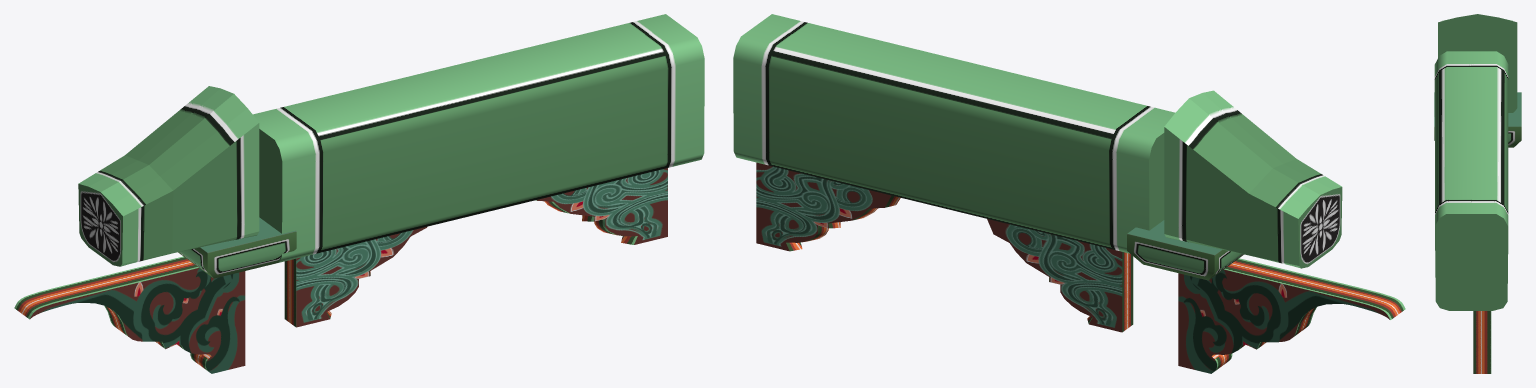
File: SM_R_Beam_13.fbx
3 renders of one model, left to right at view 1: azimuth 30°, elevation 25°; view 2: azimuth 150°, elevation 25°; view 3: azimuth 270°, elevation 25°, orthographic. The views are drawn at different scales.
Parts seen in each view (by area): view 1: SM_R_Beam_13; view 2: SM_R_Beam_13; view 3: SM_R_Beam_13.
Part boxes in pixels (x1,y1,x2,y2): SM_R_Beam_13: [14, 14, 704, 373]; SM_R_Beam_13: [733, 14, 1405, 373]; SM_R_Beam_13: [1434, 14, 1521, 373].
Bounding box in the file's own units: 224 × 32.84 × 87.18.
Materials: 3 (3 with a texture image).
